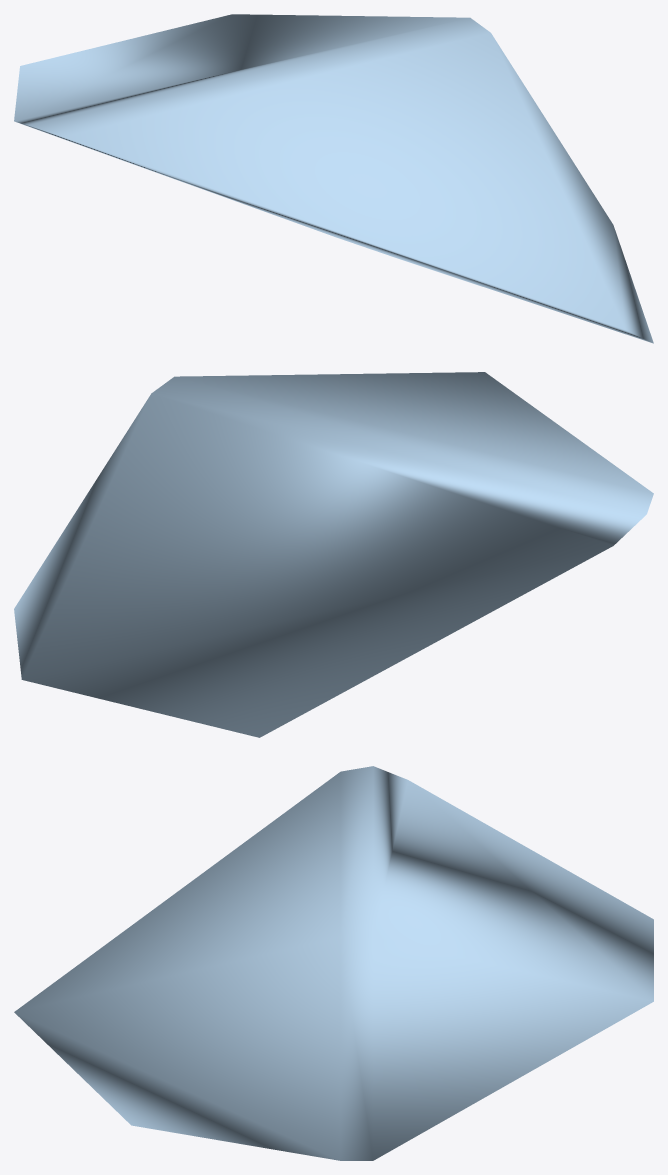
Rendered from tourmaline.glb.
The picture shows the model from 3 angles, top to bottom: view 1: azimuth 30°, elevation 25°; view 2: azimuth 150°, elevation 25°; view 3: azimuth 270°, elevation 25°; orthographic projection. The views are drawn at different scales.
Parts seen in each view (by area): view 1: tourmaline; view 2: tourmaline; view 3: tourmaline.
Boxes of the visible parts, bbox=[...] form: tourmaline: bbox=[14, 14, 653, 343]; tourmaline: bbox=[14, 372, 653, 737]; tourmaline: bbox=[14, 766, 653, 1160].
Size of the model in its own units: 5.32 by 2 by 6.58.
